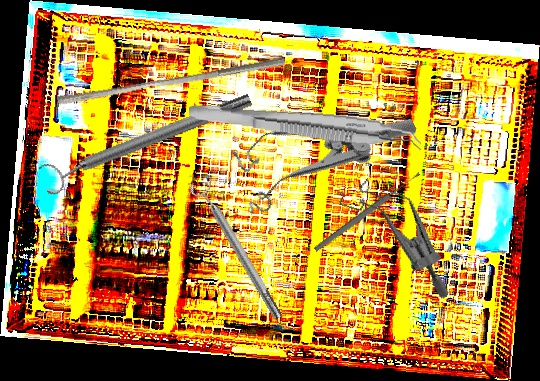Fixation Ring: (36, 84, 258, 198), (187, 173, 289, 326)
Pusher: (57, 48, 286, 113)
Speculum: (217, 61, 419, 231), (314, 167, 478, 302)
Surgical Spoon: (312, 170, 423, 254)
Tissue Forceps: (187, 101, 423, 154)
